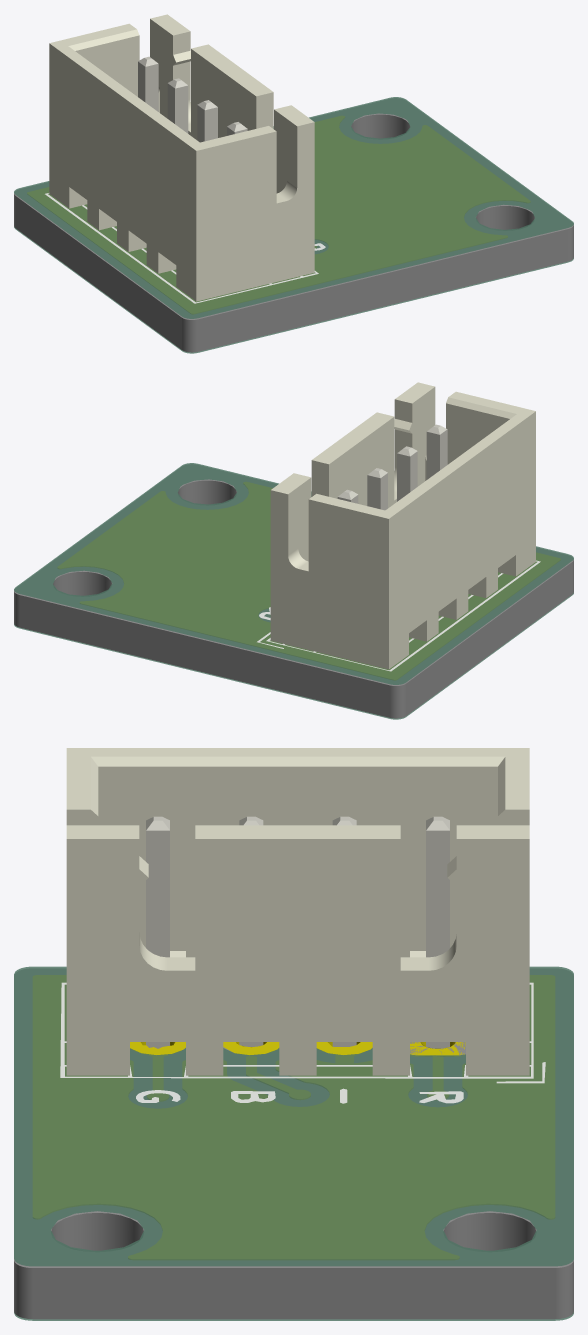
Rendered from rgbled_1.glb.
The picture shows the model from 3 angles, top to bottom: view 1: azimuth 30°, elevation 25°; view 2: azimuth 150°, elevation 25°; view 3: azimuth 270°, elevation 25°; orthographic projection. The views are drawn at different scales.
Visible parts, largest first — view 1: rgb_led_module.004, rgbPin; view 2: rgb_led_module.004, rgbPin; view 3: rgb_led_module.004, rgbPin.
Part boxes in pixels (x1=…): rgb_led_module.004: x1=14, y1=97, x2=573, y2=353; rgbPin: x1=49, y1=14, x2=314, y2=301; rgb_led_module.004: x1=14, y1=463, x2=573, y2=719; rgbPin: x1=270, y1=382, x2=535, y2=669; rgb_led_module.004: x1=14, y1=966, x2=573, y2=1320; rgbPin: x1=66, y1=748, x2=529, y2=1075.
Bounding box in the file's own units: 0.019 × 0.0104 × 0.015.
